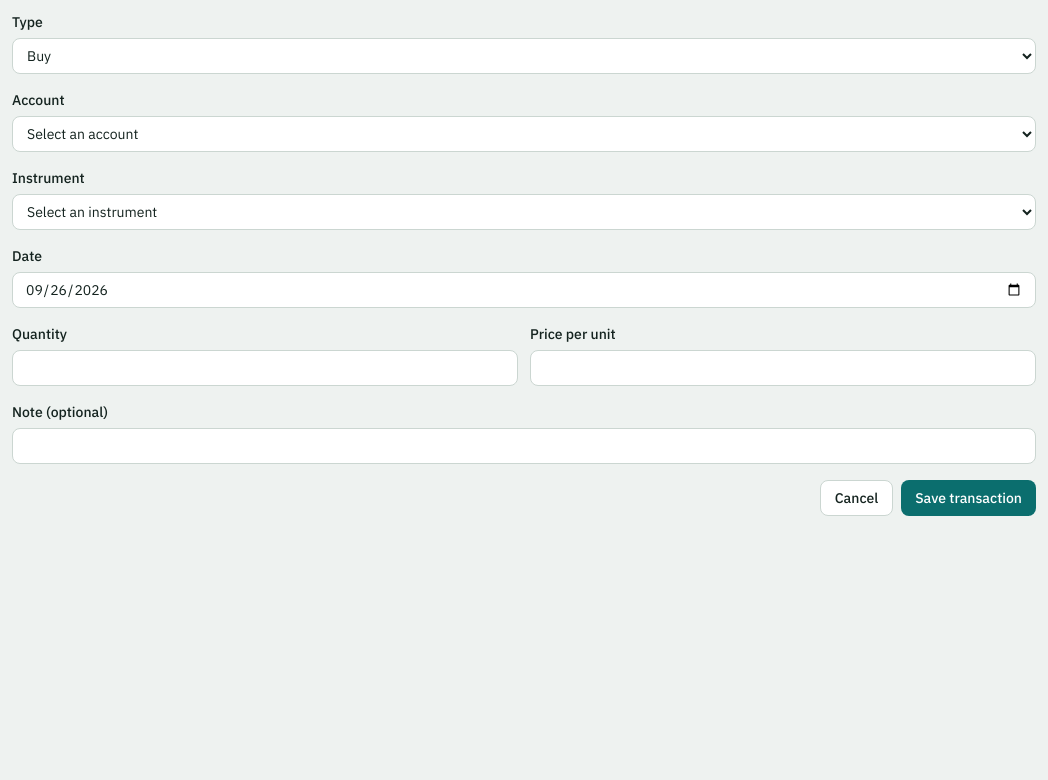
TransactionForm › rejects a quantity of zero
The image size is (1048, 780).
Select "Main" in the dropdown labelled "Account" at (524, 134), box x1=12 y1=116 x2=1036 y2=152
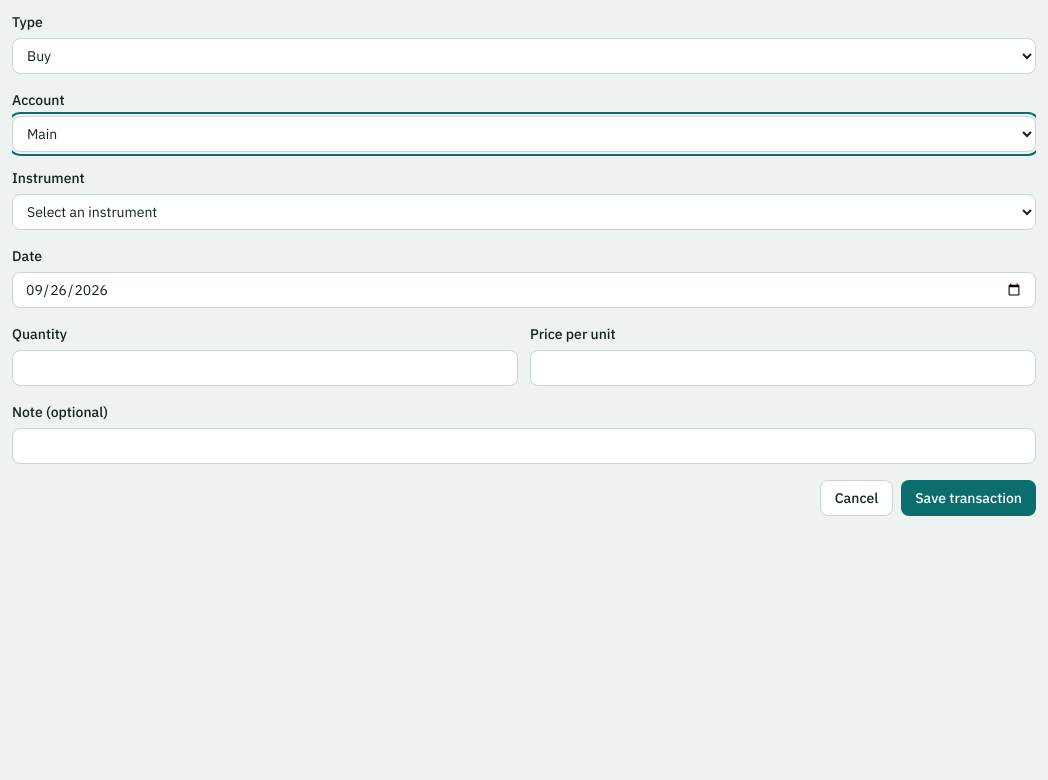
Select "VTI" in the dropdown labelled "Instrument" at (524, 212), box x1=12 y1=194 x2=1036 y2=230
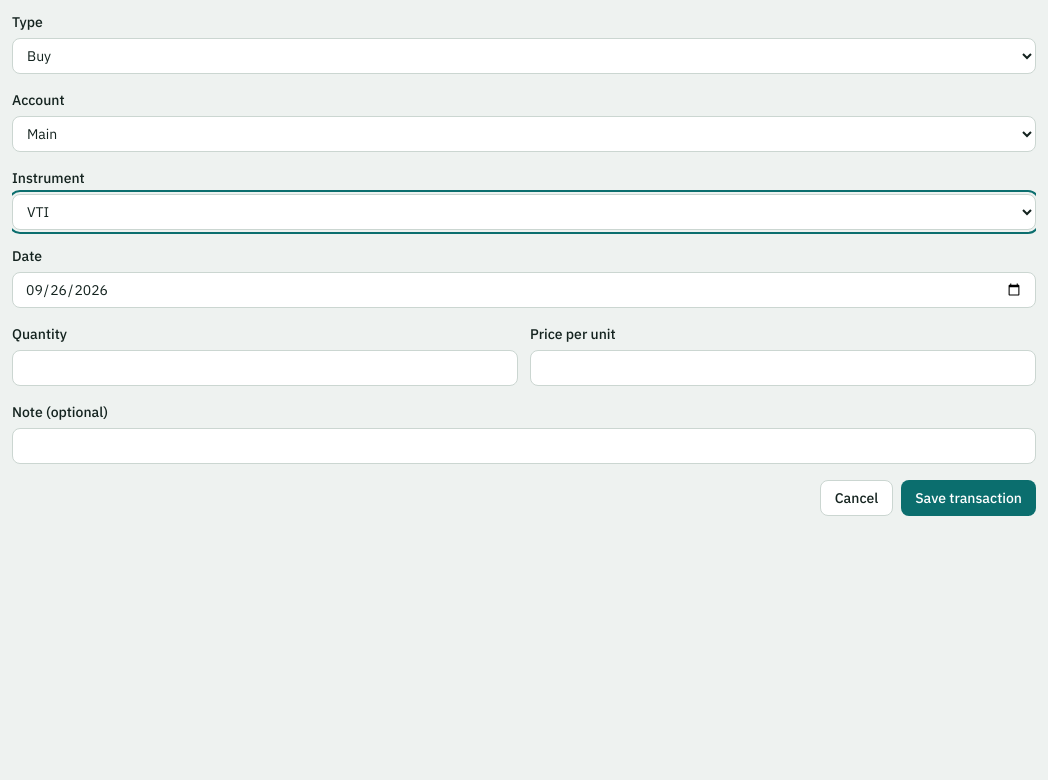
Type "2026-03-05" into the date field labelled "Date" at (524, 290), box x1=12 y1=272 x2=1036 y2=308
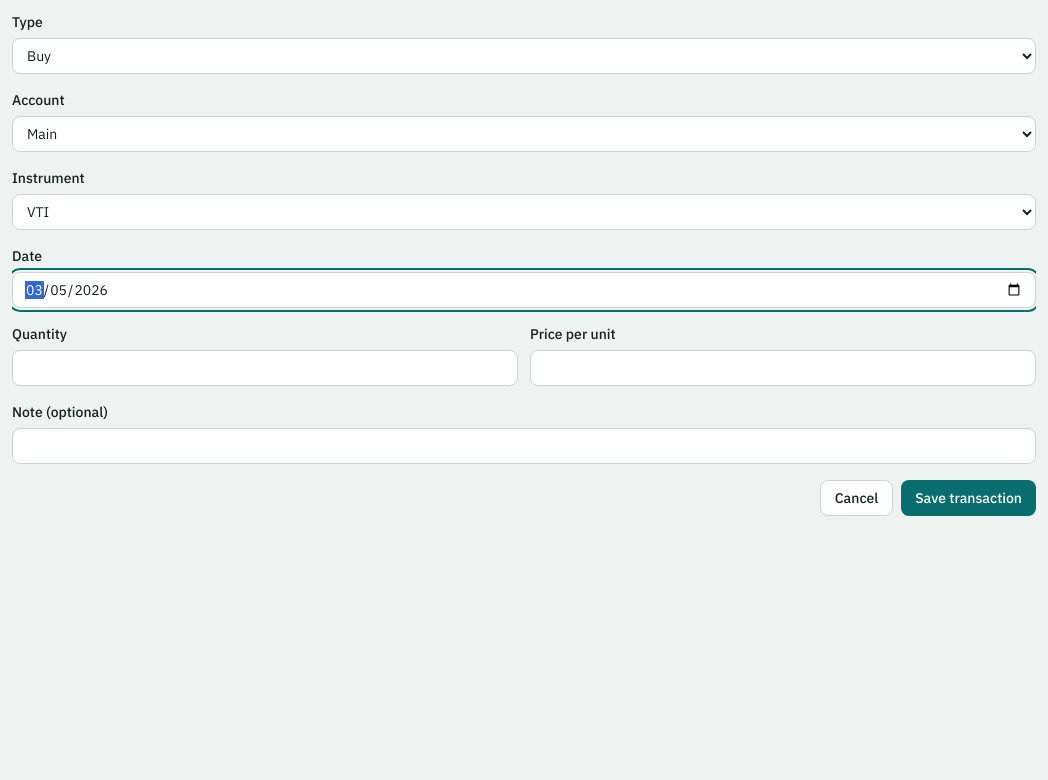
Type "0" into the field labelled "Quantity" at (265, 368), box x1=12 y1=350 x2=518 y2=386
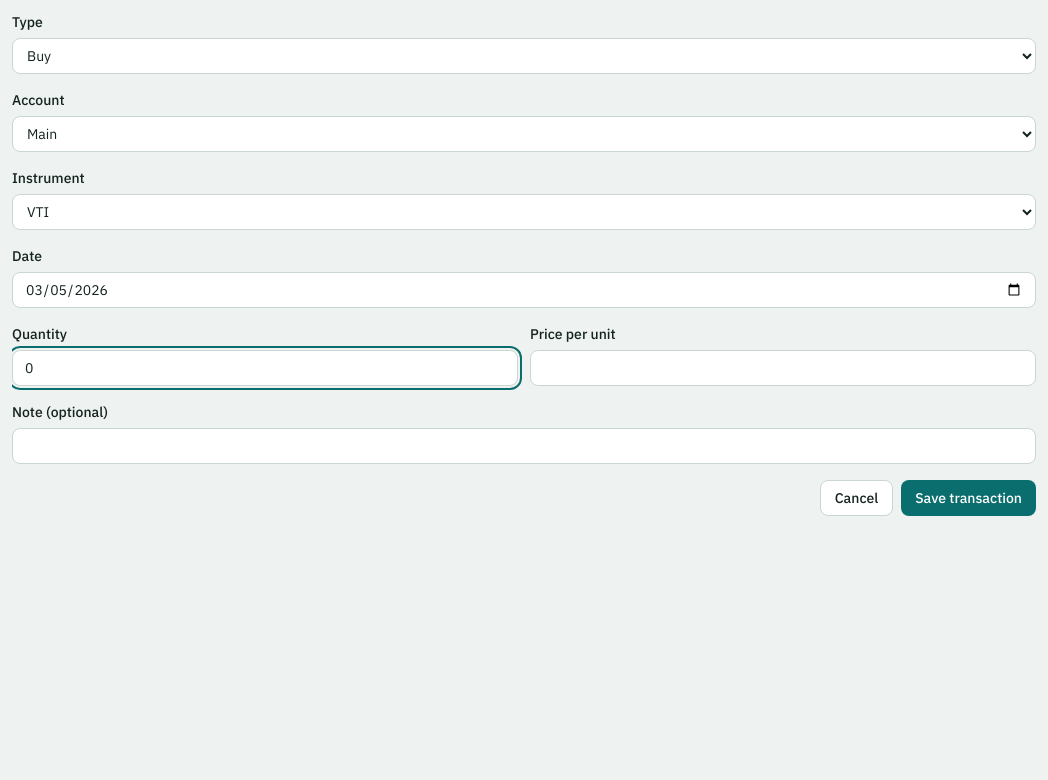
Type "100" into the field labelled "Price per unit" at (783, 368), box x1=530 y1=350 x2=1036 y2=386
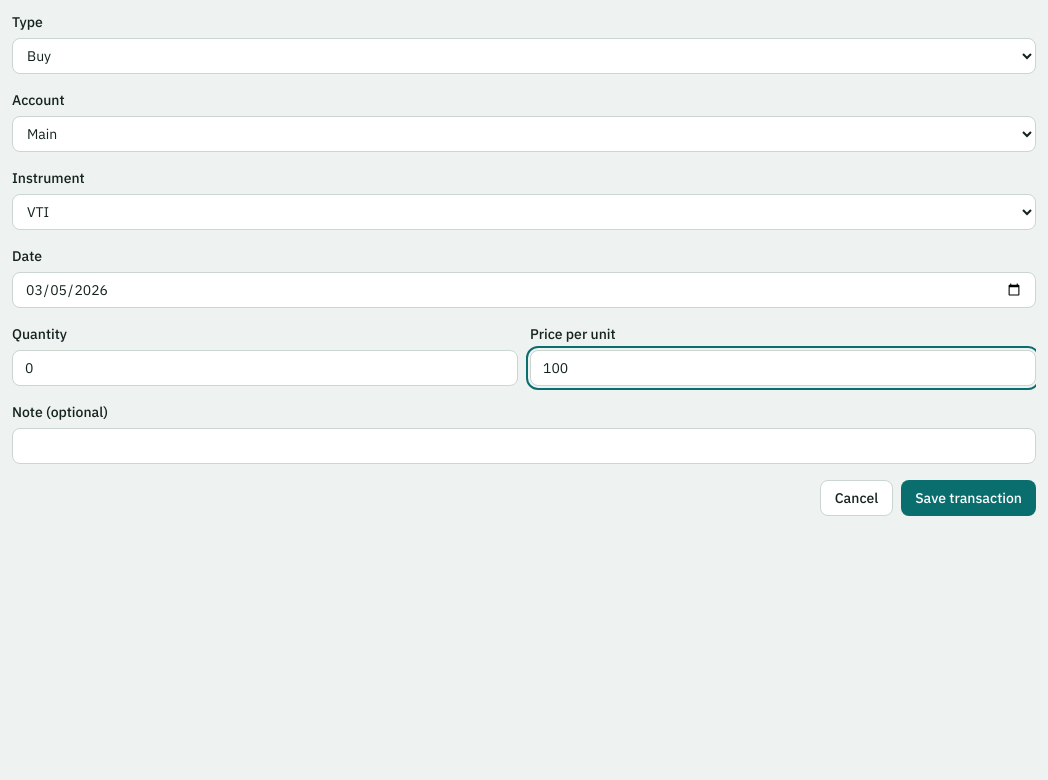
Click the button "Save transaction" at (969, 498), box x1=901 y1=480 x2=1036 y2=516
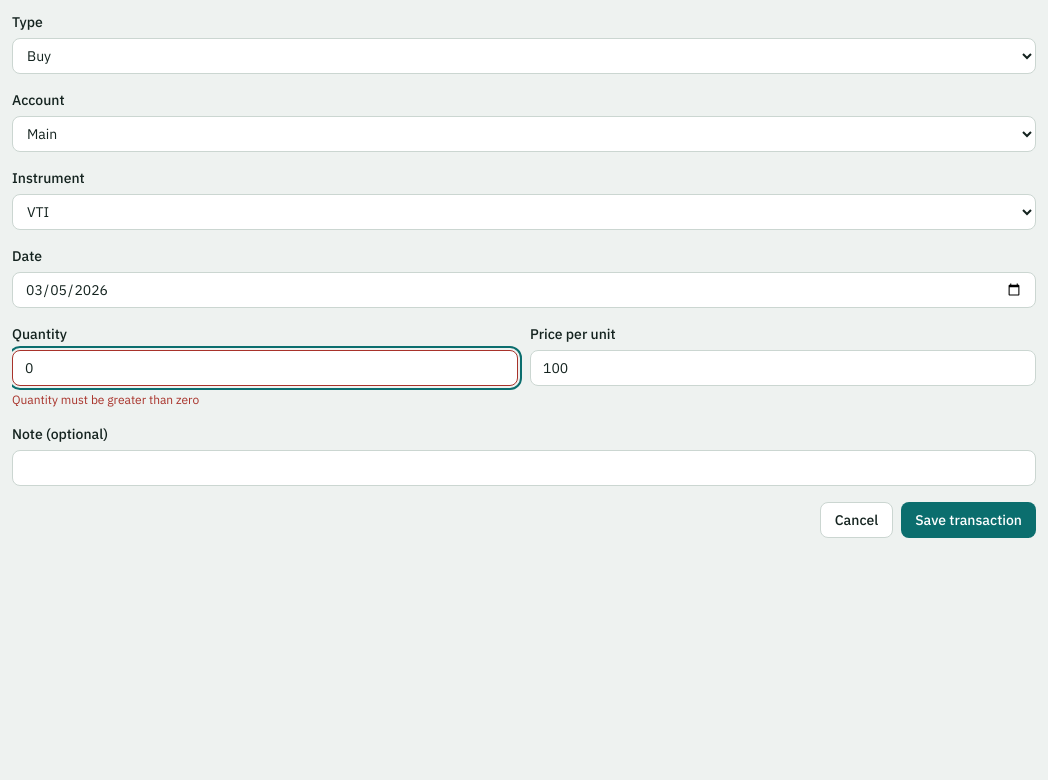
Now the text "Quantity must be greater than zero" is shown, box x1=12 y1=392 x2=199 y2=407
